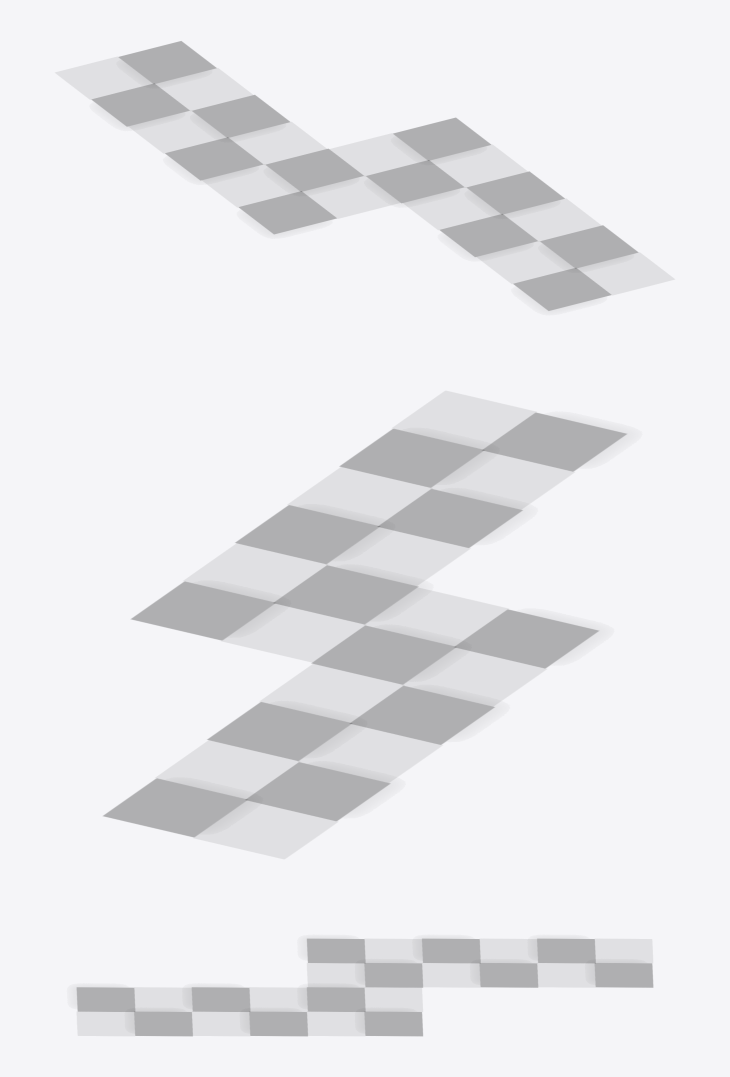
The picture shows the model from 3 angles, top to bottom: view 1: azimuth 30°, elevation 25°; view 2: azimuth 150°, elevation 25°; view 3: azimuth 270°, elevation 25°; orthographic projection. The views are drawn at different scales.
Visible parts, largest first — view 1: Group.006, Group.004, Group.001, Group.002, Group.003, Group.005; view 2: Group.002, Group.003, Group.004, Group.001, Group.006, Group.005; view 3: Group.004, Group.001, Group.002, Group.003, Group.005, Group.006.
Part boxes in pixels (<box>): Group.006: <box>514,225,637,310</box>; Group.004: <box>92,41,215,126</box>; Group.001: <box>165,95,289,180</box>; Group.002: <box>239,149,363,233</box>; Group.003: <box>366,118,490,202</box>; Group.005: <box>440,172,564,256</box>; Group.002: <box>312,609,598,684</box>; Group.003: <box>132,565,417,640</box>; Group.004: <box>103,762,389,836</box>; Group.001: <box>207,686,494,760</box>; Group.006: <box>340,413,626,487</box>; Group.005: <box>235,489,522,563</box>; Group.004: <box>537,938,652,987</box>; Group.001: <box>422,938,537,987</box>; Group.002: <box>307,938,422,987</box>; Group.003: <box>307,987,422,1035</box>; Group.005: <box>192,987,307,1035</box>; Group.006: <box>76,987,192,1035</box>.
Size of the model in its own units: 6.2 by 0 by 12.2.
24 materials, 24 textured.
